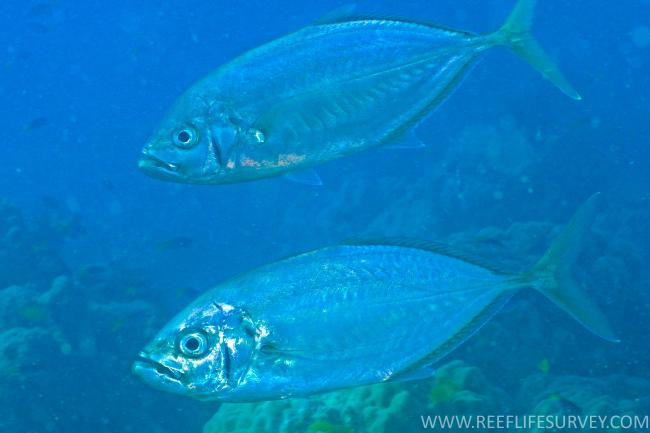fish: (133, 191, 625, 403), (138, 2, 586, 184)
